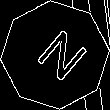N_SW: (23, 23, 87, 87)
